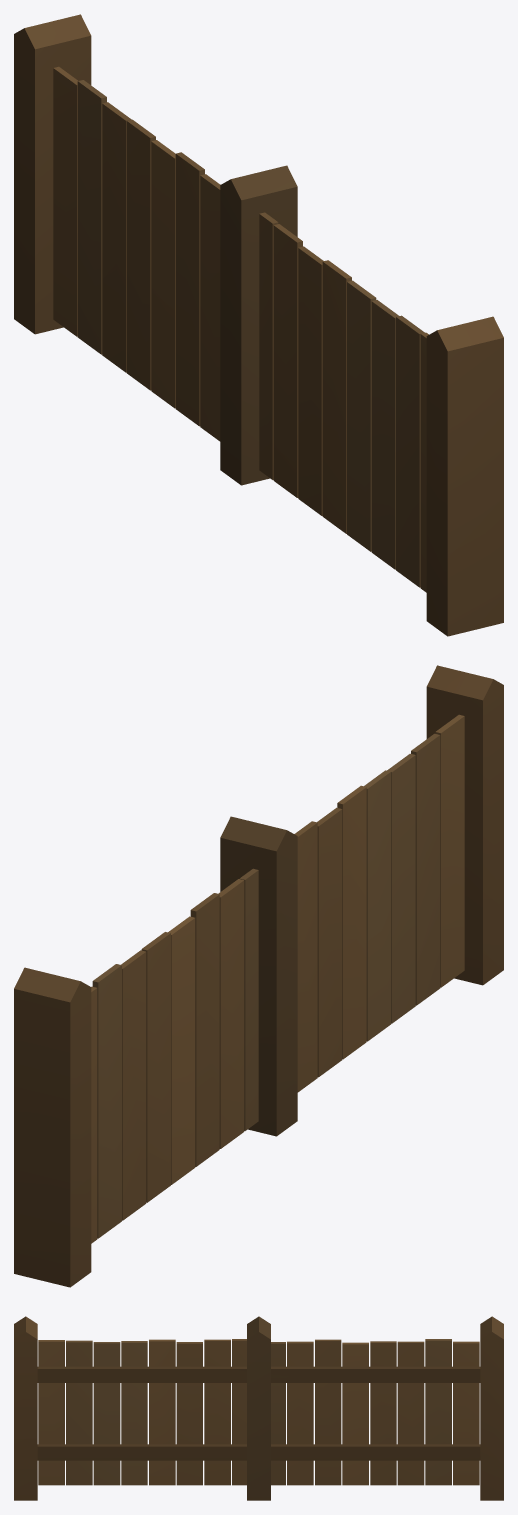
Rendered from fence.town.planks.glb.
3 views of the same model, one above another, from view 1: azimuth 30°, elevation 25°; view 2: azimuth 150°, elevation 25°; view 3: azimuth 270°, elevation 25° (orthographic). The views are drawn at different scales.
Visible parts, largest first — view 1: fence_town_planks; view 2: fence_town_planks; view 3: fence_town_planks.
Boxes of the visible parts, bbox=[...] form: fence_town_planks: bbox=[14, 14, 503, 636]; fence_town_planks: bbox=[14, 665, 503, 1287]; fence_town_planks: bbox=[14, 1316, 503, 1500].
Size of what is drawn, in the model's own units: 0.217 by 1.1 by 2.89.
